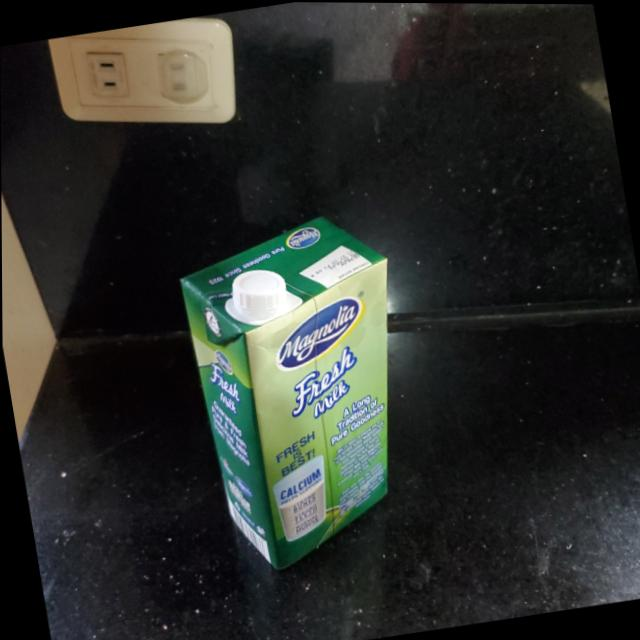milk: (174, 208, 440, 583)
